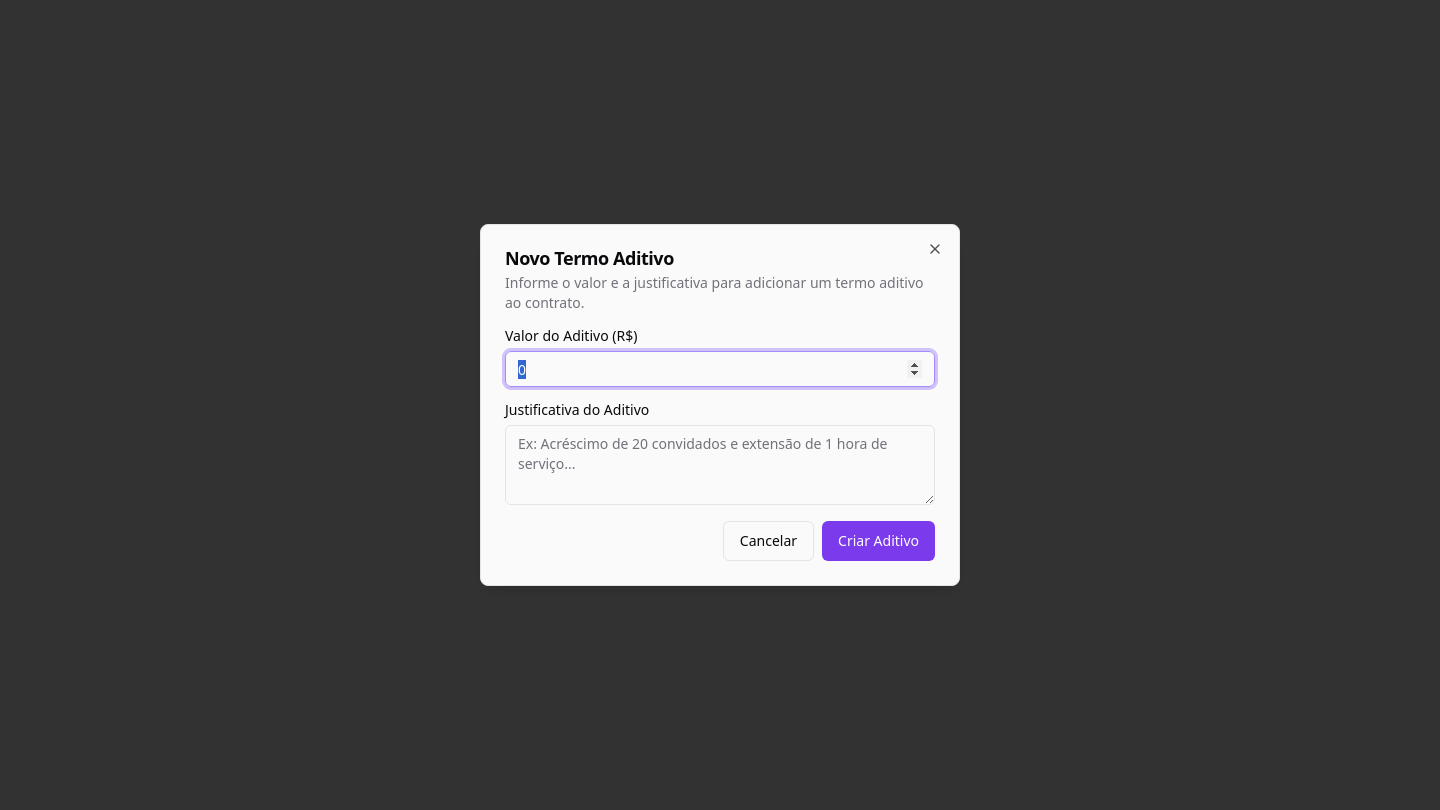
Test: CreateAddendumDialog › não permite envio quando valor é zero ou justificativa está vazia
Click the button "Criar Aditivo": (879, 541) [822,521,935,561]
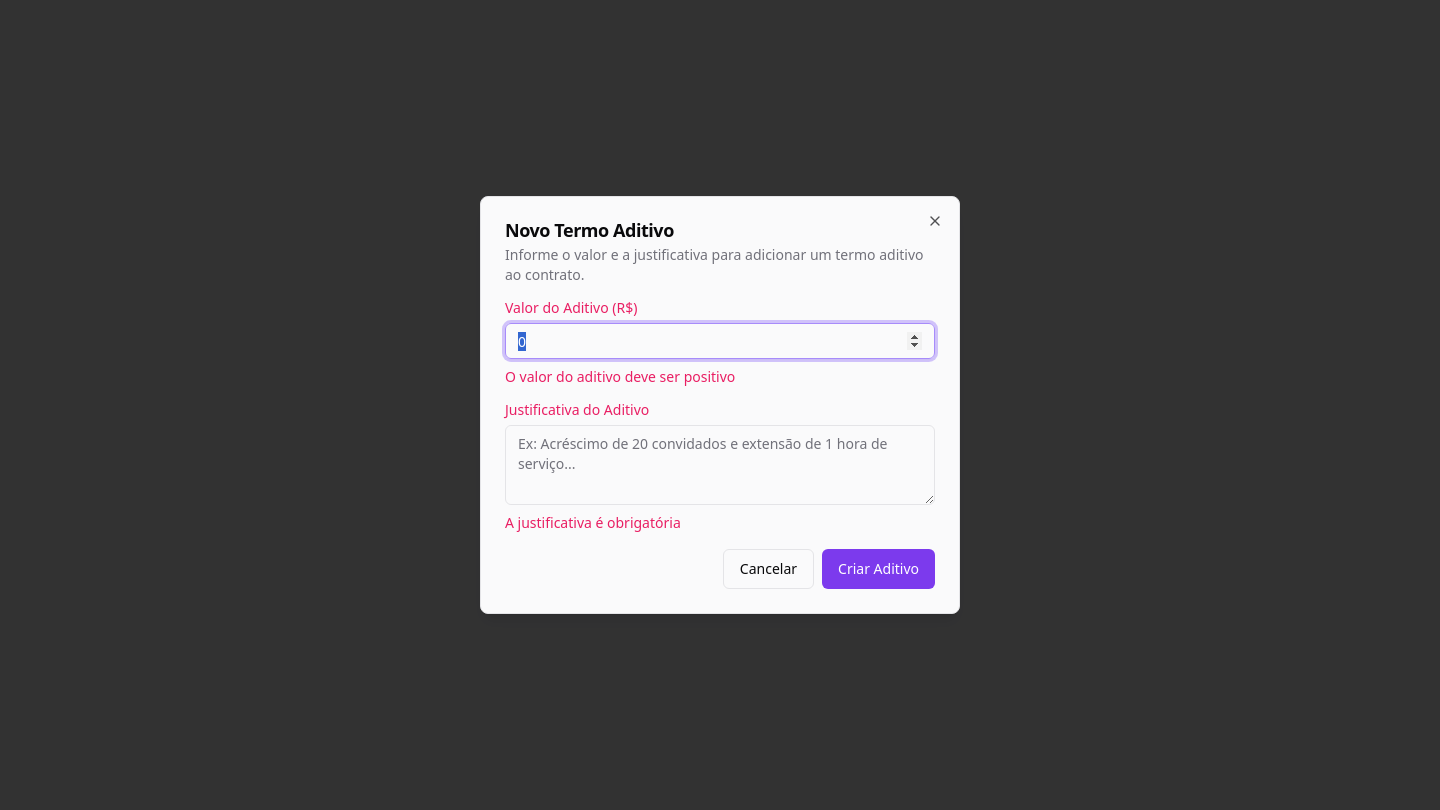
Now the text "O valor do aditivo deve ser positivo" is shown, box [505,367,735,386]
Now the text "A justificativa é obrigatória" is shown, box [505,513,681,532]
